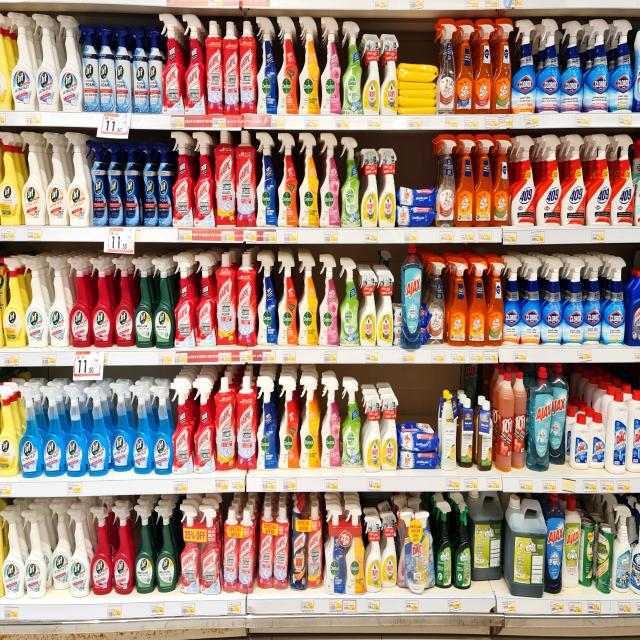MIS: (400, 240, 422, 352)
Product: (506, 496, 548, 598), (179, 503, 223, 597), (325, 503, 367, 596), (465, 491, 506, 581), (397, 507, 436, 595), (289, 499, 324, 589), (530, 368, 559, 476), (256, 502, 290, 594), (222, 504, 255, 595), (160, 14, 188, 116), (8, 13, 36, 112), (56, 15, 84, 113), (560, 133, 588, 230), (32, 13, 59, 112), (182, 14, 208, 116), (44, 255, 72, 349), (533, 17, 560, 114), (87, 502, 114, 599), (42, 131, 69, 227), (14, 388, 42, 480), (543, 494, 568, 596), (16, 131, 42, 227), (64, 132, 90, 228), (585, 133, 611, 228), (607, 19, 633, 113), (168, 132, 193, 228), (193, 132, 218, 228), (212, 378, 236, 477), (19, 258, 45, 349), (86, 386, 112, 477), (339, 377, 364, 471), (66, 257, 92, 347), (559, 19, 583, 116), (582, 20, 607, 113), (610, 135, 635, 228), (39, 386, 64, 479), (254, 132, 278, 228), (256, 16, 279, 116), (277, 16, 300, 116), (64, 386, 89, 478), (509, 19, 533, 114), (474, 18, 497, 117), (64, 510, 89, 601), (192, 382, 216, 476), (342, 19, 365, 117), (86, 259, 111, 349), (21, 510, 46, 600), (194, 255, 218, 348), (397, 63, 439, 116), (395, 422, 442, 469), (538, 135, 562, 227), (172, 256, 196, 348), (128, 384, 152, 476), (170, 383, 194, 475), (0, 509, 24, 601), (320, 377, 344, 469), (130, 259, 154, 350), (0, 259, 24, 350), (148, 387, 172, 478), (546, 362, 567, 466), (300, 17, 322, 116), (214, 254, 237, 348), (126, 25, 150, 115), (602, 256, 626, 346), (561, 258, 585, 348), (109, 382, 133, 472), (214, 131, 236, 229), (426, 255, 449, 348), (277, 378, 300, 471), (540, 258, 564, 347), (453, 19, 475, 116), (234, 131, 256, 228), (236, 378, 258, 475), (511, 136, 534, 228), (583, 256, 606, 348), (256, 382, 279, 474), (434, 19, 456, 115), (85, 140, 109, 228), (277, 133, 299, 229), (298, 133, 320, 229), (152, 258, 175, 349), (109, 259, 132, 350), (118, 141, 142, 228), (47, 504, 71, 591), (93, 24, 116, 114), (109, 510, 132, 600), (133, 504, 156, 594), (319, 134, 341, 228), (152, 508, 175, 597), (255, 256, 277, 349), (560, 496, 582, 589), (496, 374, 516, 476), (512, 374, 532, 476), (320, 20, 341, 116), (0, 131, 21, 227), (436, 134, 457, 230), (297, 255, 319, 346), (492, 19, 513, 114), (611, 504, 633, 594), (102, 142, 125, 228), (520, 258, 542, 347), (455, 135, 476, 228), (111, 26, 133, 114), (137, 141, 159, 229), (341, 137, 362, 229), (433, 499, 454, 591), (276, 256, 297, 347), (206, 21, 226, 116), (152, 142, 174, 228), (319, 257, 340, 347), (474, 134, 494, 228), (236, 254, 256, 348), (300, 376, 320, 470), (501, 257, 522, 346), (396, 186, 440, 228), (339, 258, 360, 346), (492, 135, 512, 227), (361, 32, 382, 119), (601, 383, 622, 469), (448, 258, 468, 348), (452, 503, 472, 593), (80, 24, 100, 113), (221, 22, 240, 115), (378, 507, 399, 591), (0, 386, 19, 477), (484, 256, 503, 346), (466, 257, 485, 347), (239, 21, 257, 115), (145, 28, 164, 116), (382, 32, 401, 117), (373, 270, 393, 348), (360, 147, 379, 228), (380, 149, 399, 229), (358, 270, 377, 348), (362, 393, 380, 473), (380, 394, 398, 474), (456, 396, 475, 470), (365, 515, 383, 592), (440, 392, 457, 472), (622, 272, 640, 346), (477, 401, 495, 474), (578, 516, 596, 589), (596, 524, 614, 595), (570, 410, 590, 472), (0, 14, 12, 112), (587, 410, 606, 470), (627, 390, 640, 475), (630, 504, 640, 598), (630, 23, 640, 113)
